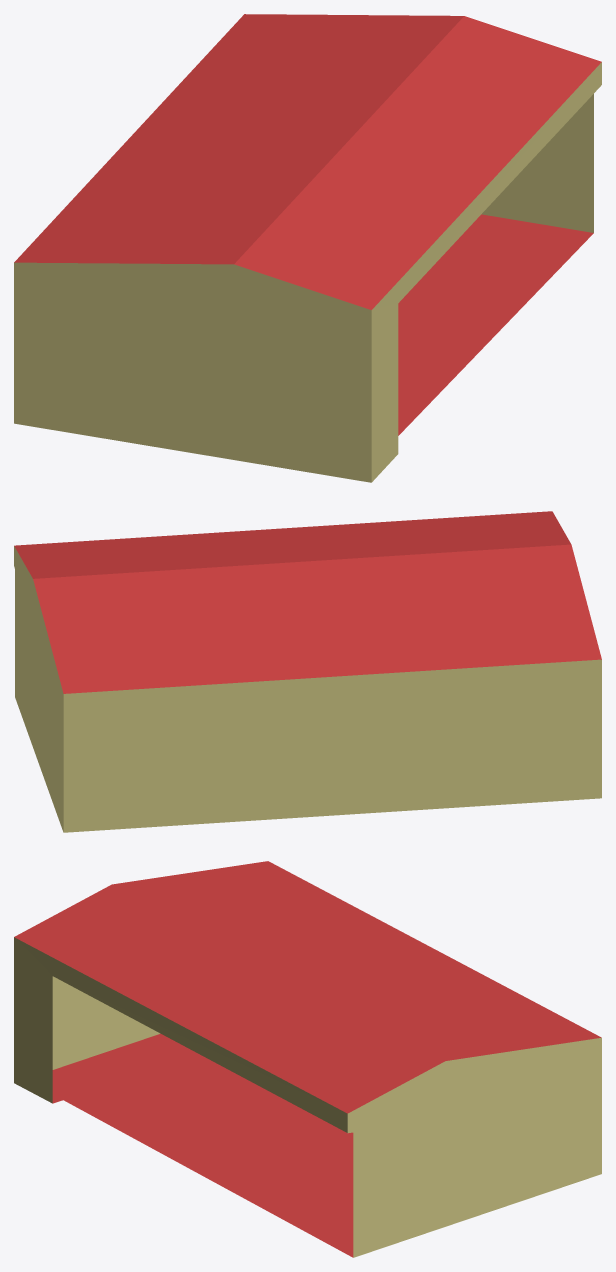
3 views of the same model, one above another, from view 1: azimuth 30°, elevation 25°; view 2: azimuth 150°, elevation 25°; view 3: azimuth 270°, elevation 25° (orthographic). The views are drawn at different scales.
Bounding box in the file's own units: 32.5 × 30.78 × 9.57.
